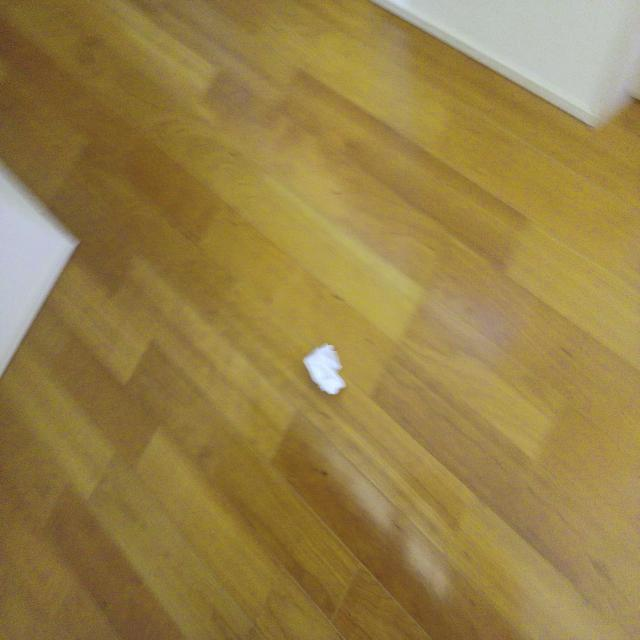Paper: (282, 343, 368, 415)
